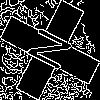N: (25, 25, 83, 78)
